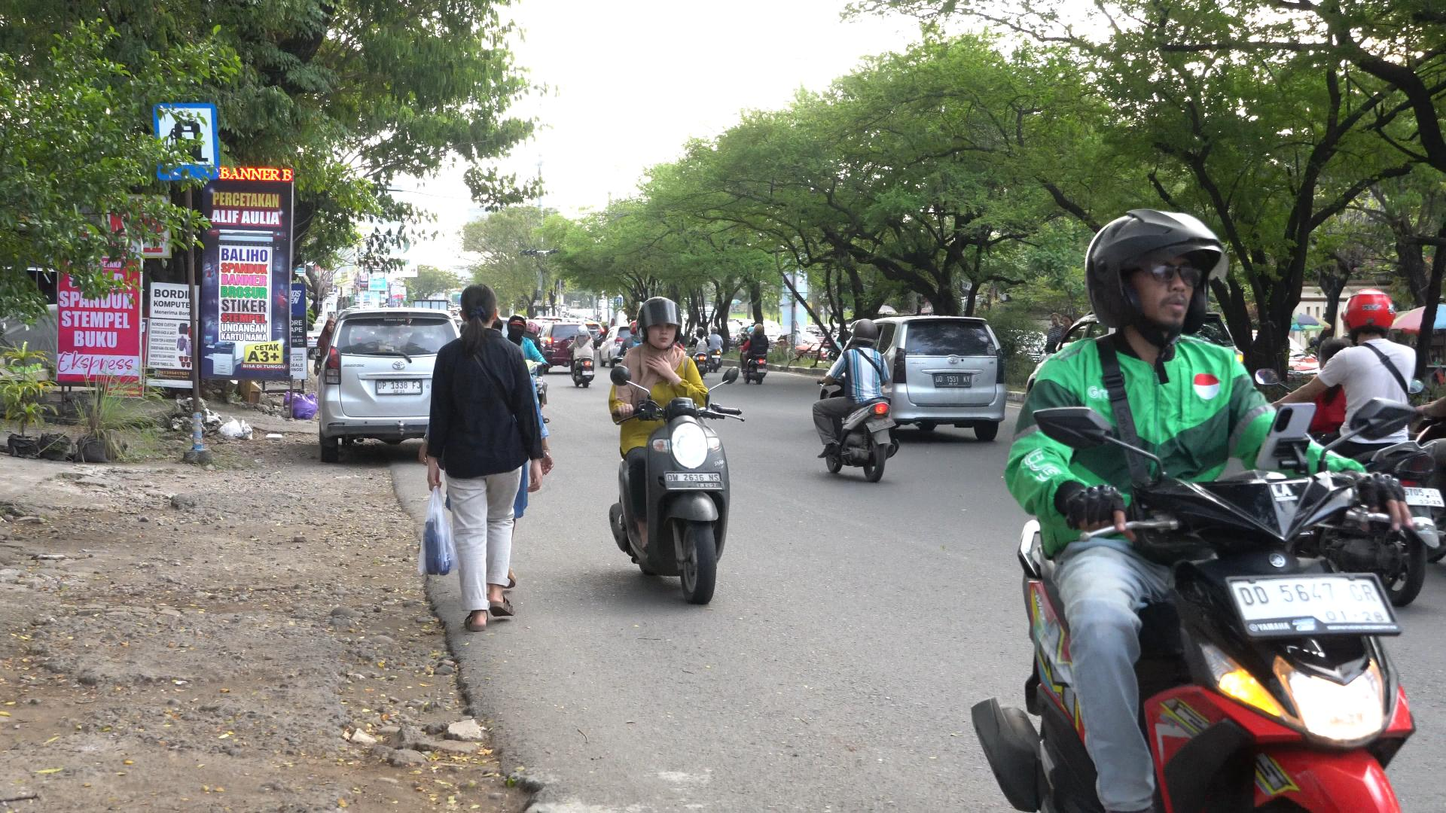number-plate: (1222, 569, 1399, 644), (658, 467, 724, 494)
